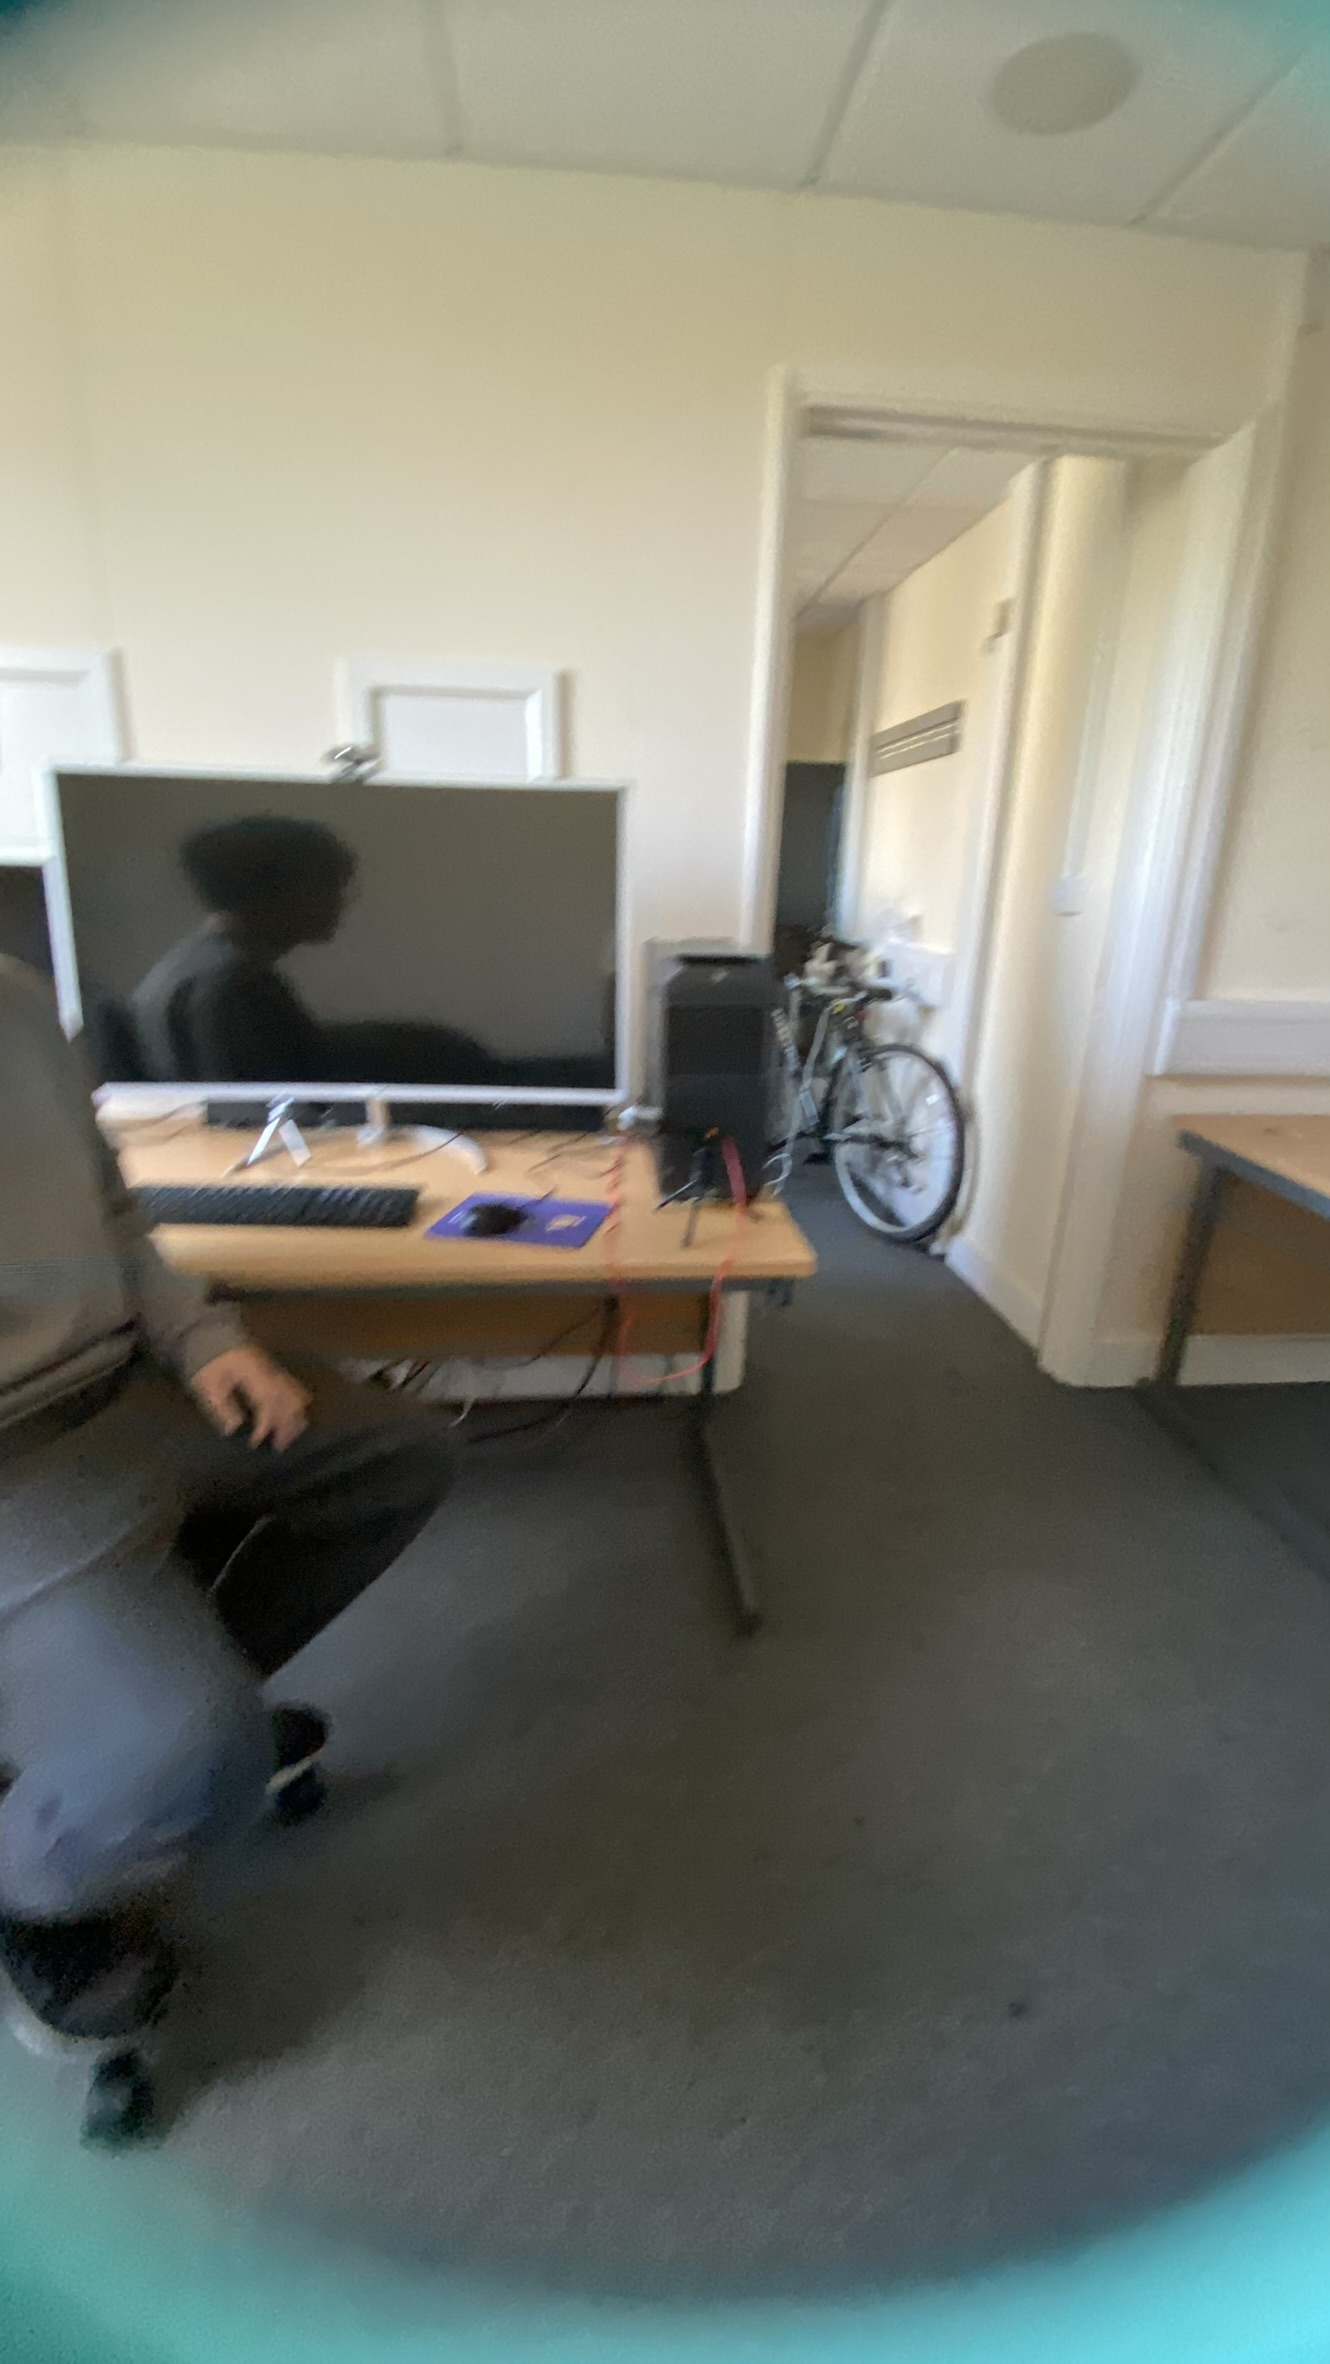door: (754, 359, 1195, 1359)
table: (253, 1120, 788, 1663)
